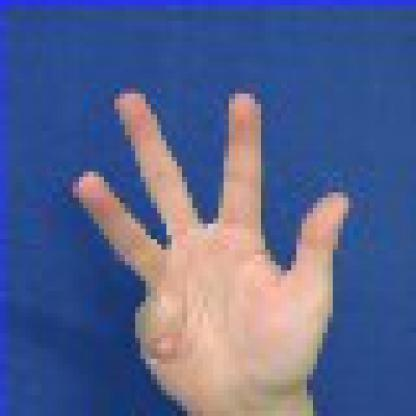nine: (26, 62, 400, 411)
